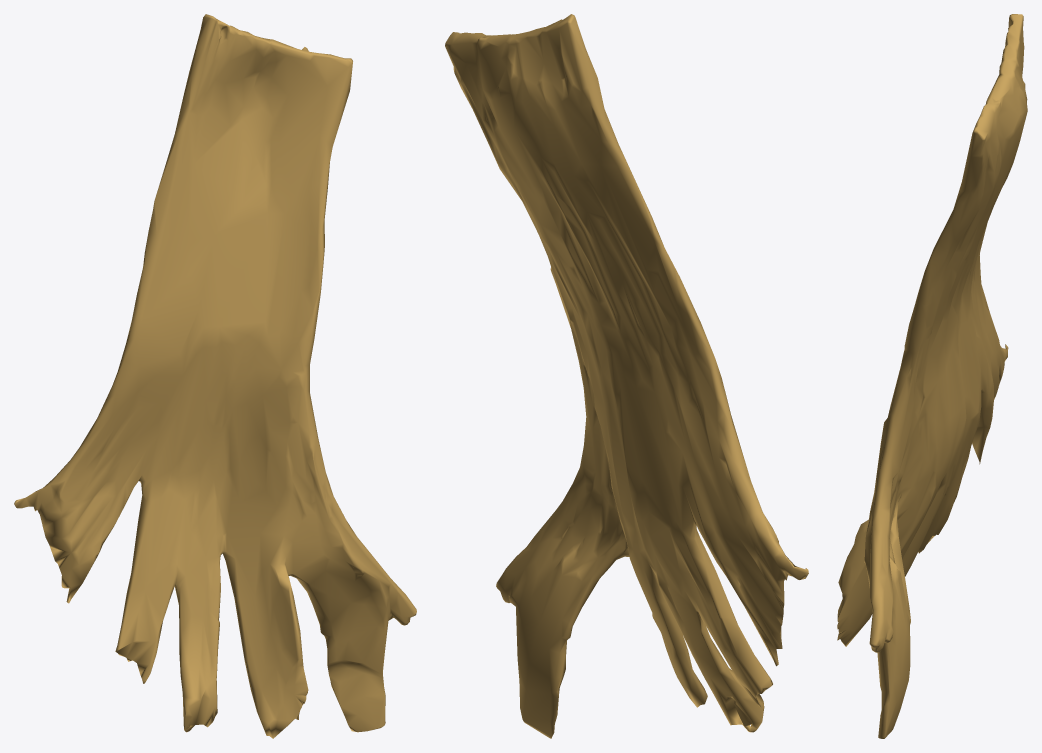
The picture shows the model from 3 angles, left to right: view 1: azimuth 30°, elevation 25°; view 2: azimuth 150°, elevation 25°; view 3: azimuth 270°, elevation 25°; orthographic projection. The views are drawn at different scales.
Parts seen in each view (by area): view 1: 右侧足底长韧带; view 2: 右侧足底长韧带; view 3: 右侧足底长韧带.
Boxes of the visible parts, bbox=[...] form: 右侧足底长韧带: bbox=[14, 14, 416, 738]; 右侧足底长韧带: bbox=[445, 14, 808, 738]; 右侧足底长韧带: bbox=[837, 14, 1027, 738].
Bounding box in the file's own units: 0.0749 × 0.1471 × 0.0374.
